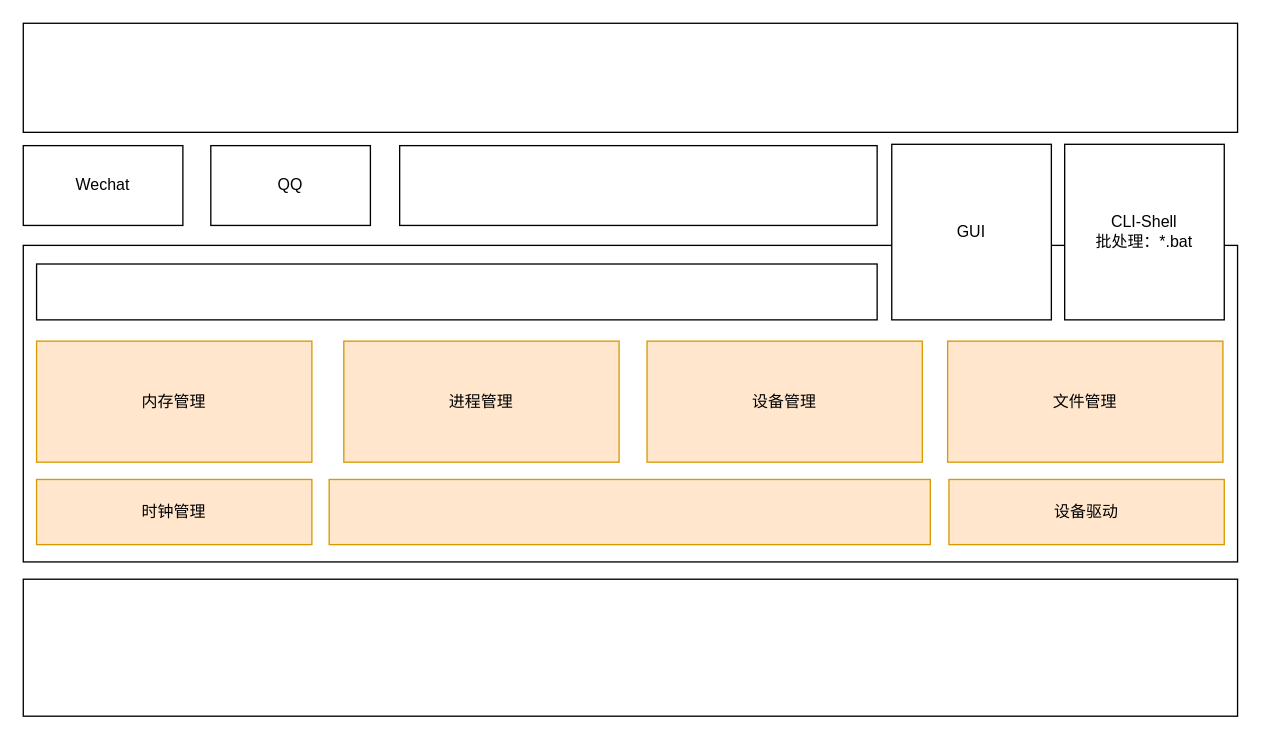
The diagram is 1261 pixels wide and 739 high, and some of its shapes have lost their labels. Here are the shapes that lost their labels. From the top down, the centre of each, then its label:
At (630,77): "user".
At (637,184): "Chrome".
At (456,291): "system call".
At (629,511): "中断处理".
